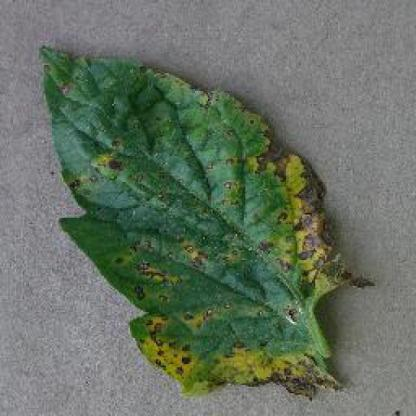Tomato_Blight: (37, 44, 375, 395)
